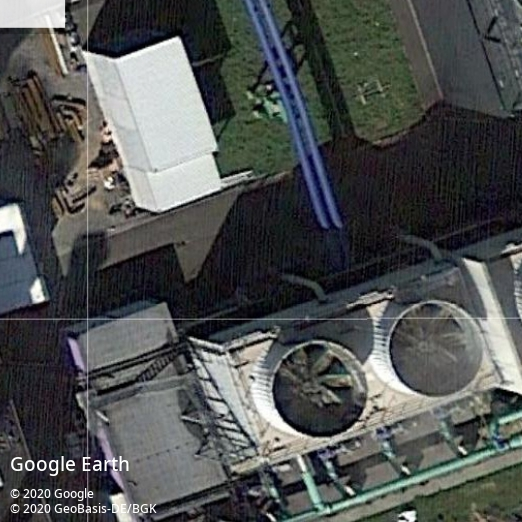Vent: (270, 340, 370, 440), (387, 301, 484, 399)
